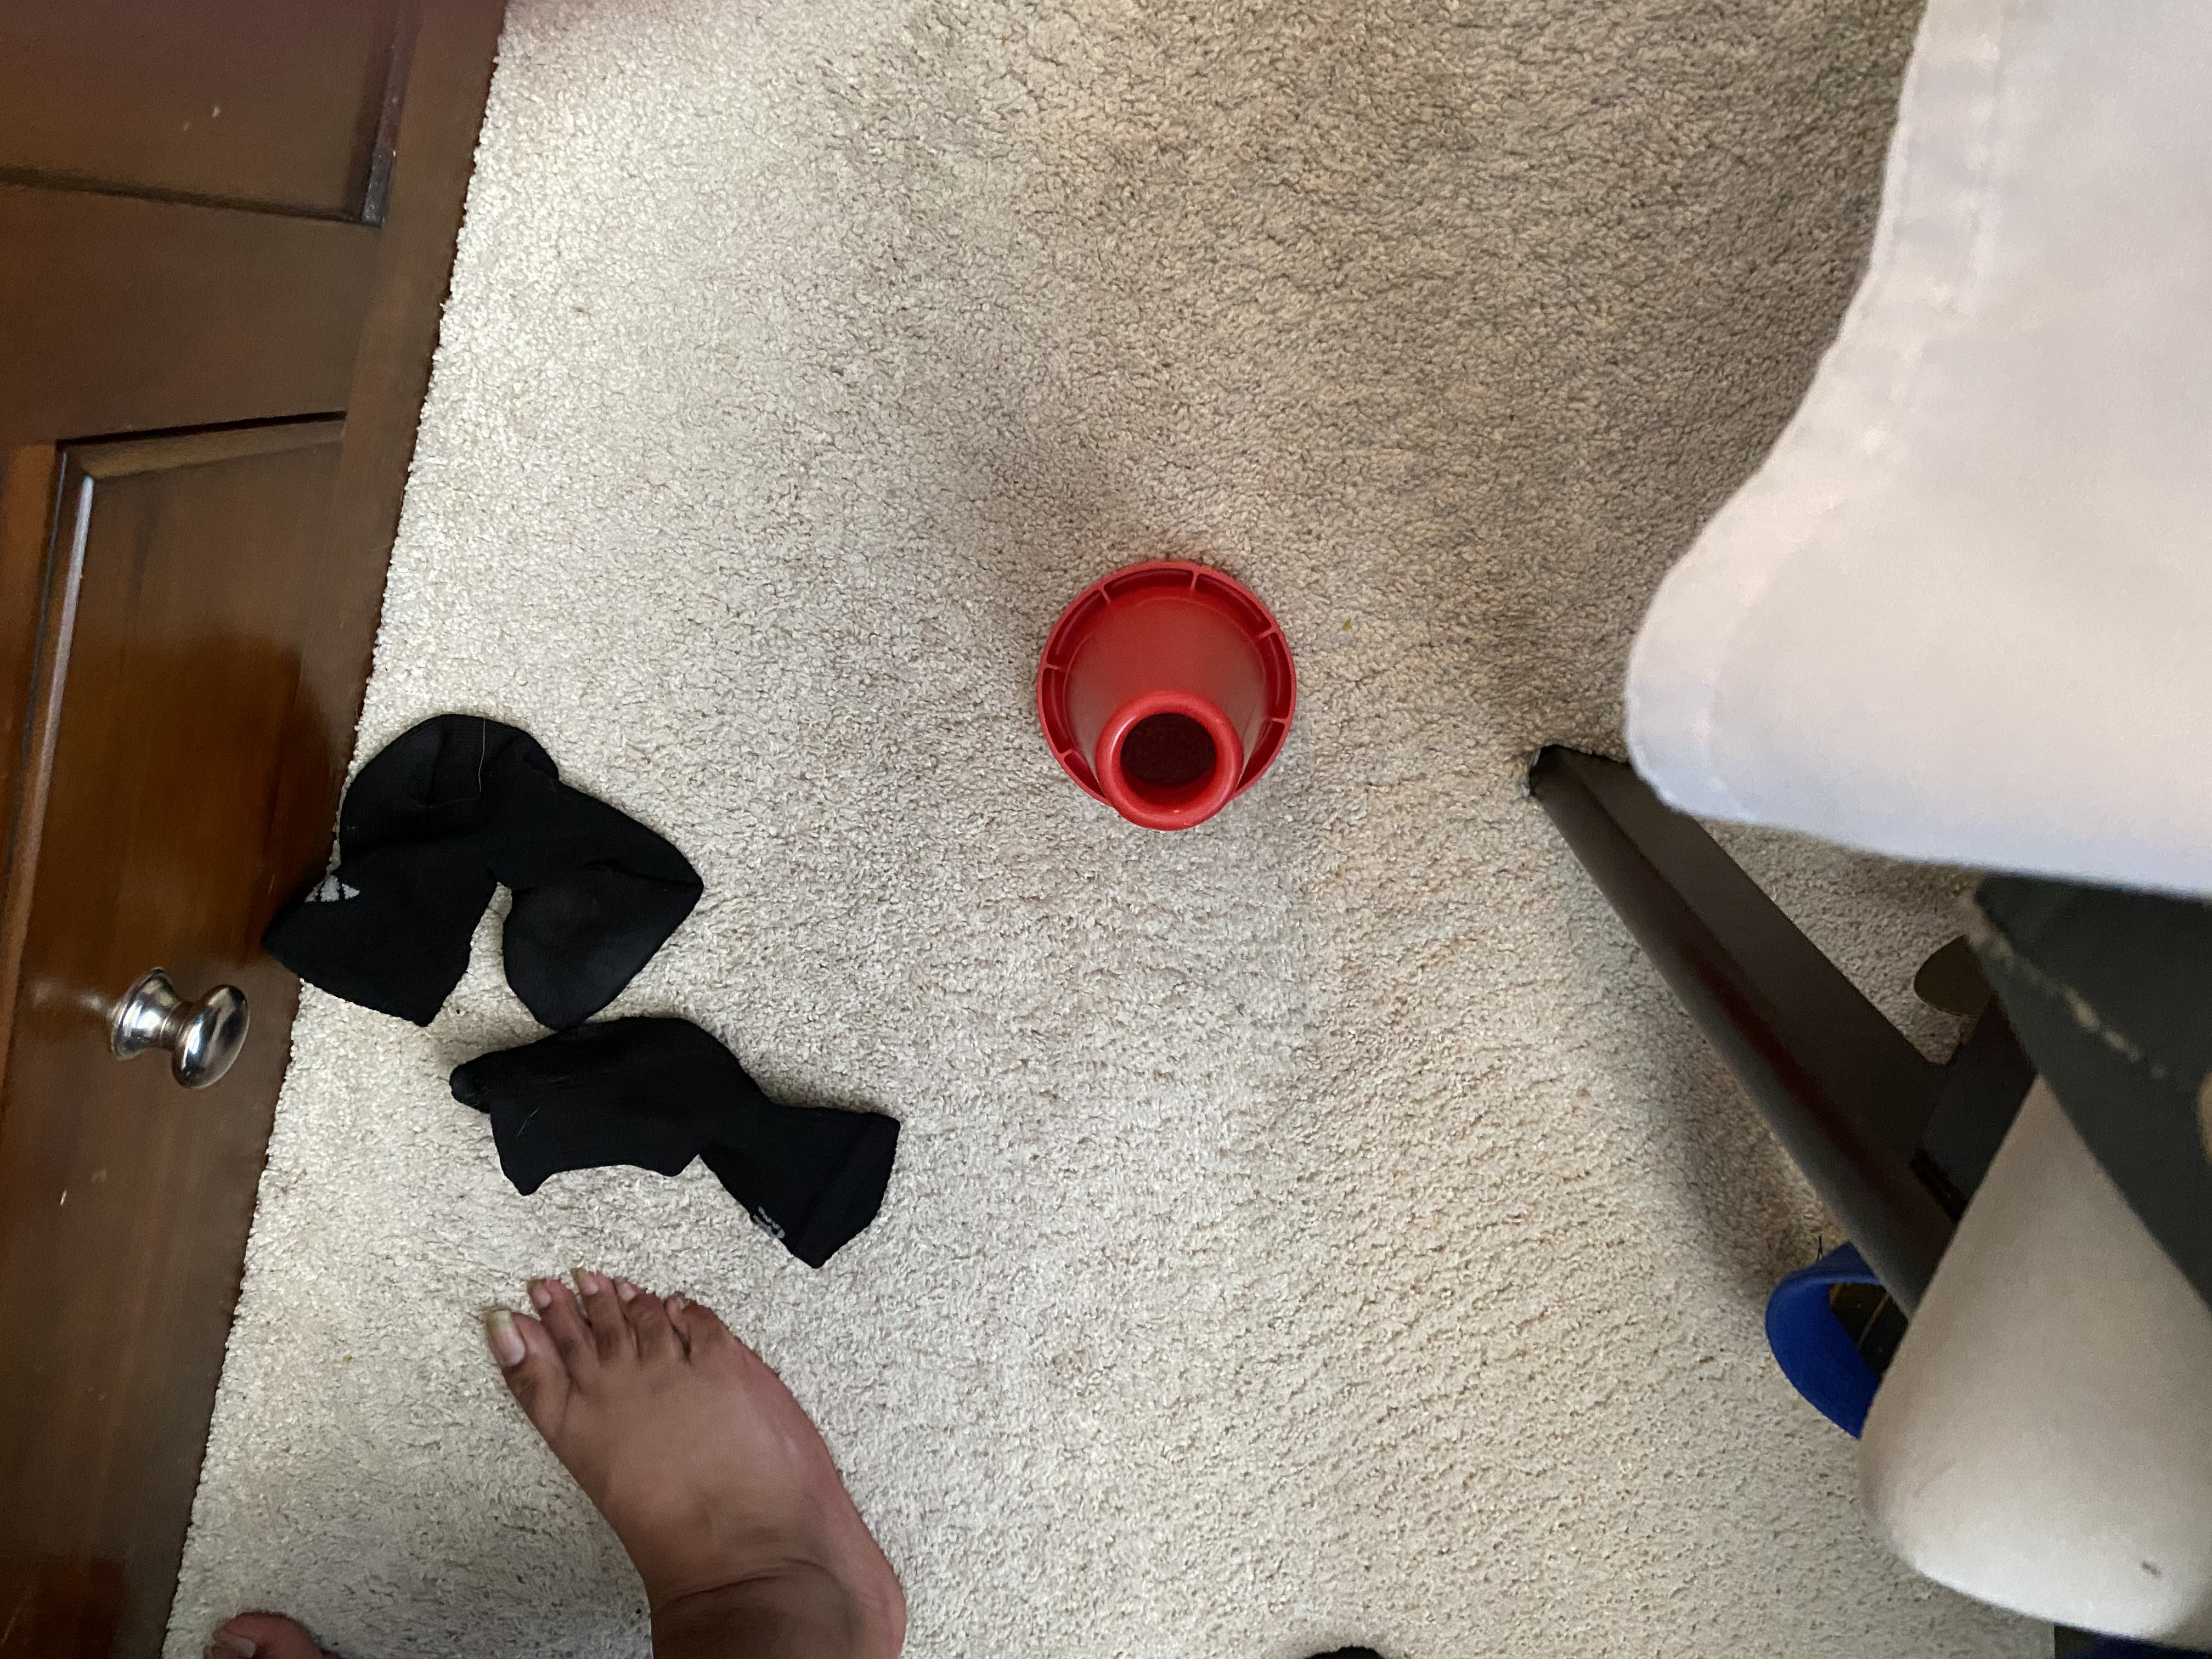redCone: (1033, 551, 1298, 835)
